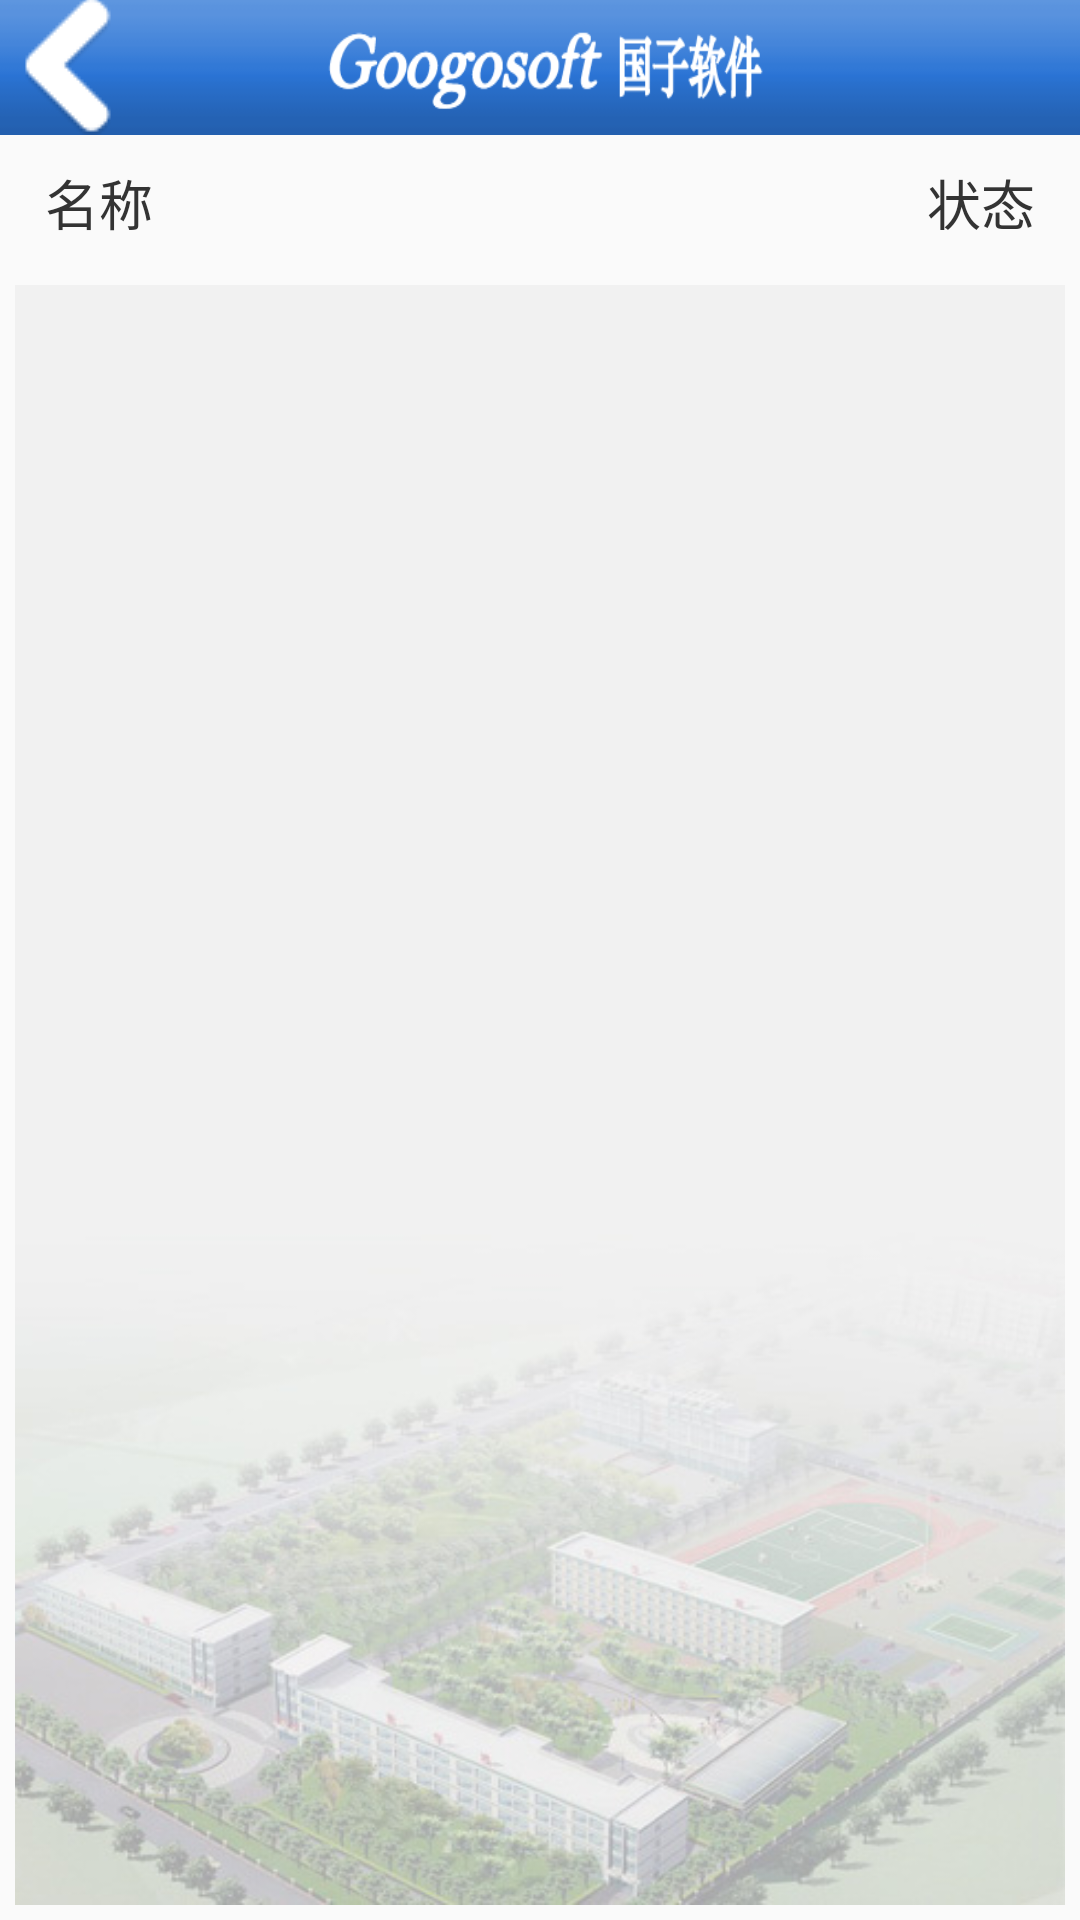

Named icons in this screenshot (1080 x 1920) and their centers, point (x, y):
oa back: point (67, 67)
